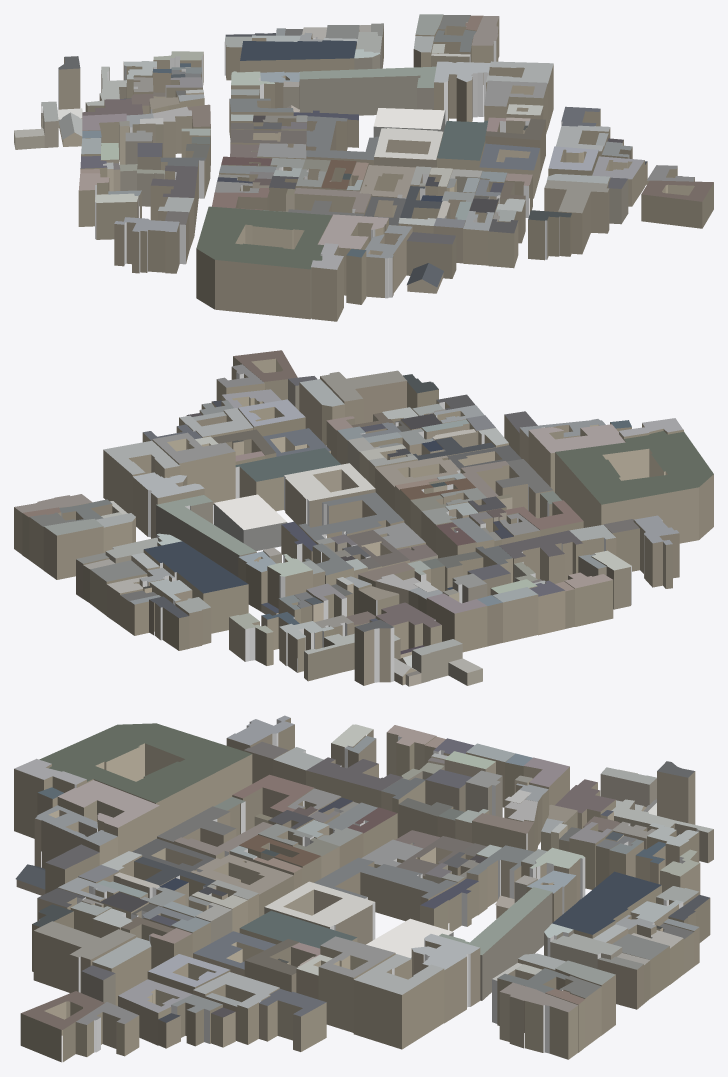
3 views of the same model, one above another, from view 1: azimuth 30°, elevation 25°; view 2: azimuth 150°, elevation 25°; view 3: azimuth 270°, elevation 25° (orthographic). The views are drawn at different scales.
Visible parts, largest first — view 1: tuile; view 2: tuile; view 3: tuile.
Part boxes in pixels (x1=…): tuile: x1=14, y1=14, x2=713, y2=321; tuile: x1=14, y1=350, x2=713, y2=686; tuile: x1=14, y1=715, x2=713, y2=1062.
Bounding box in the file's own units: 270 × 28.23 × 268.
